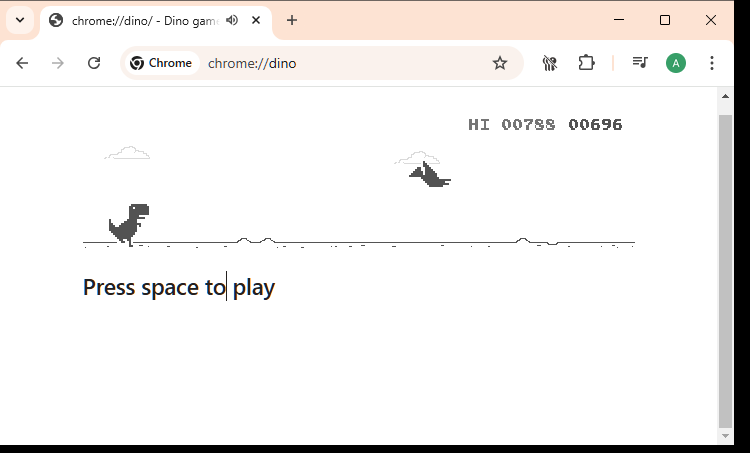bird: (408, 159, 452, 188)
dino: (108, 203, 150, 247)
